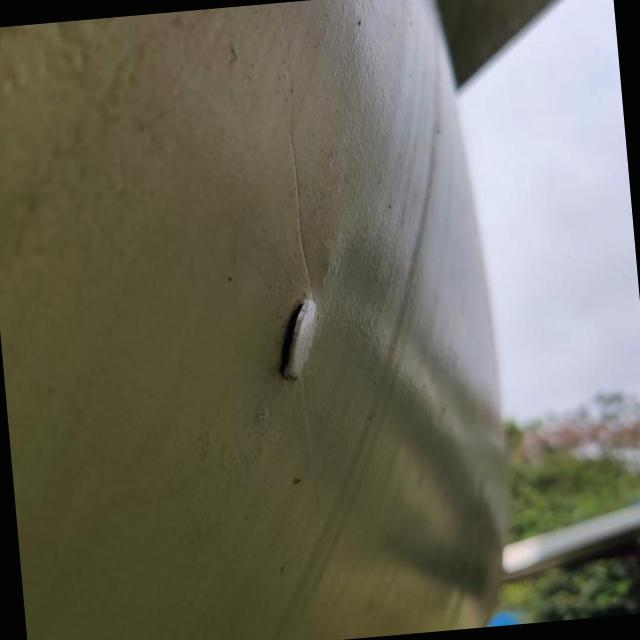crack: (253, 280, 350, 396)
